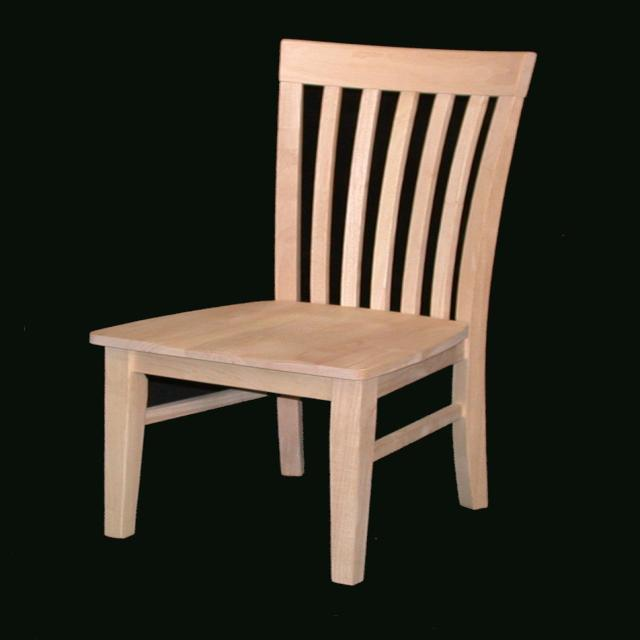chair: (89, 37, 536, 586)
